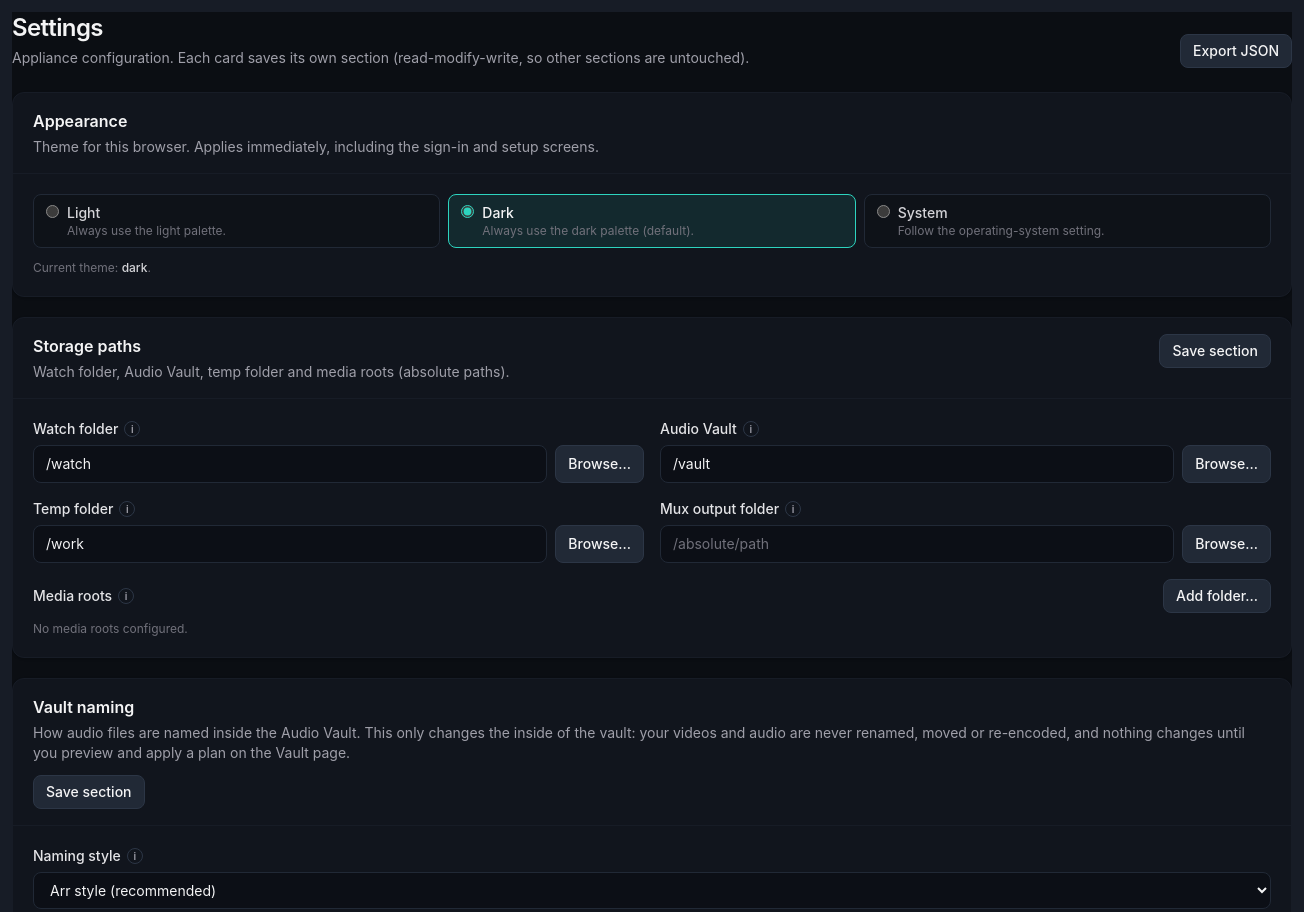
Test case: info tooltip (issue #3) › opens on hover with role=tooltip and closes when the pointer leaves
Expected: the heading "Storage paths" is shown, [33, 336, 141, 356]
Step 1. Hover over the button named "About Audio Vault" → coordinates (751, 429), box [743, 421, 759, 437]
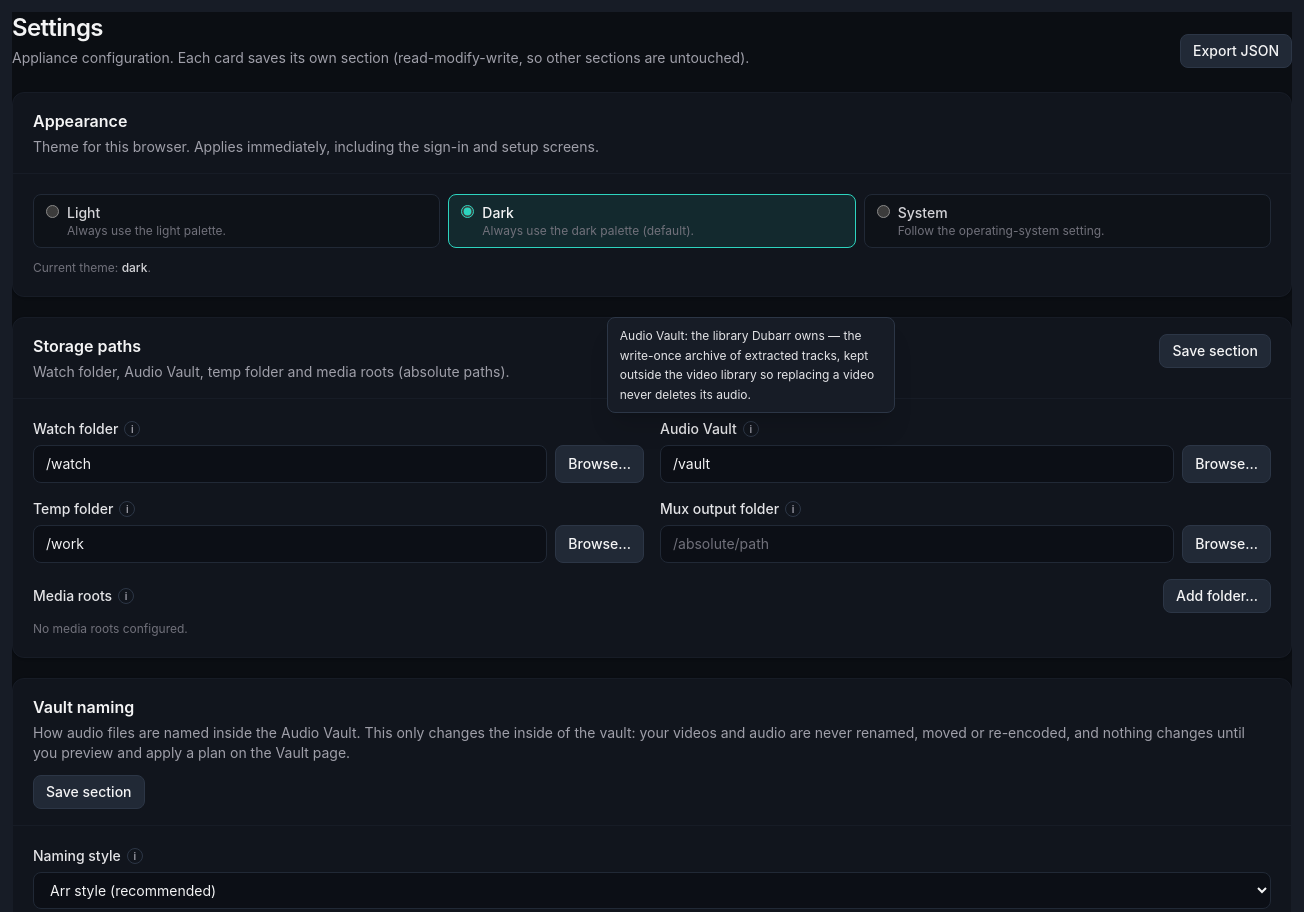
Expected: the tooltip shows "write-once", [620, 328, 874, 402]
Step 2. Move the pointer off the button named "About Audio Vault", box [743, 421, 759, 437]
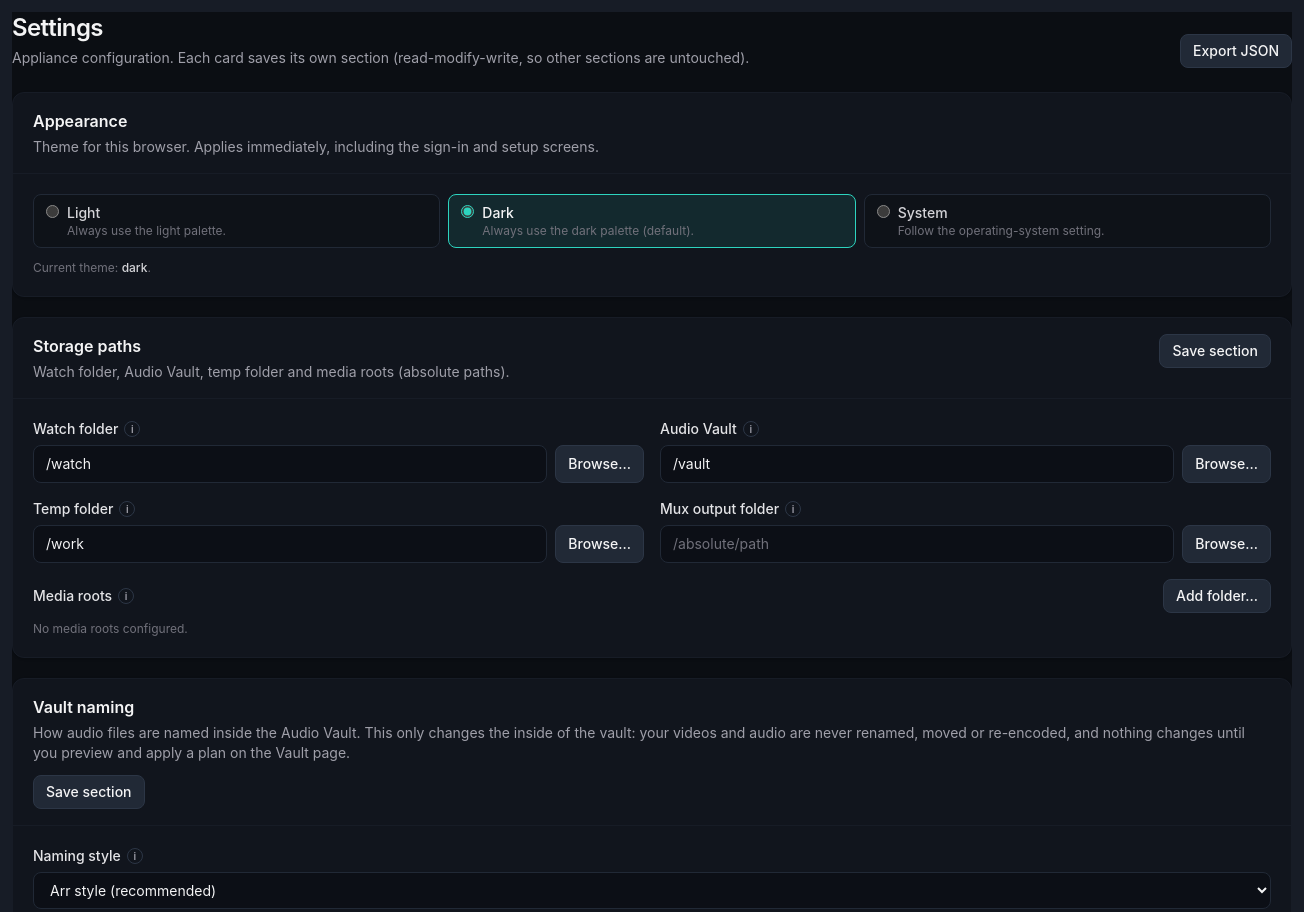
Expected: the tooltip is gone
